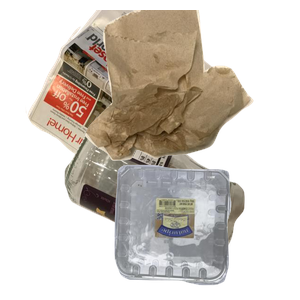glass: (62, 120, 300, 300)
paper: (23, 10, 245, 190)
plastic: (112, 162, 300, 300)
trash: (83, 10, 300, 163)
